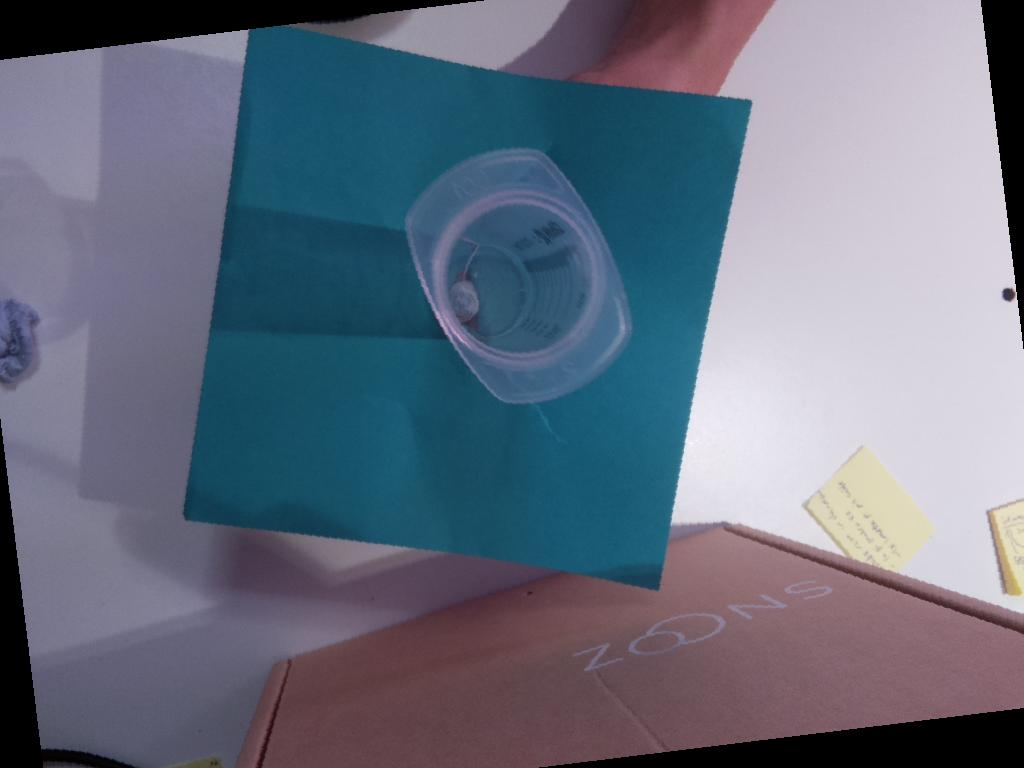clean: (405, 149, 632, 404)
